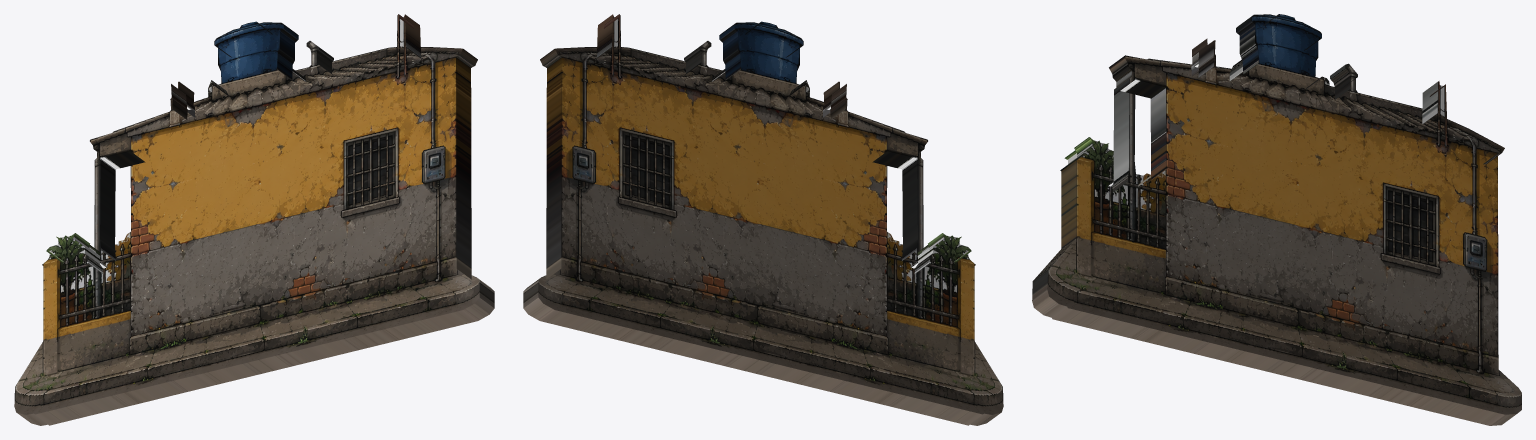
The model's file is house_06_side.glb.
The picture shows the model from 3 angles, left to right: view 1: azimuth 30°, elevation 25°; view 2: azimuth 150°, elevation 25°; view 3: azimuth 330°, elevation 25°; orthographic projection.
Visible parts, largest first — view 1: world; view 2: world; view 3: world.
Part boxes in pixels (left/top/right/bottom): world: left=14, top=14, right=494, bottom=425; world: left=523, top=14, right=1003, bottom=425; world: left=1032, top=14, right=1521, bottom=425.
Size of the model in its own units: 7.93 by 5.53 by 0.4432.
1 material, 1 textured.
